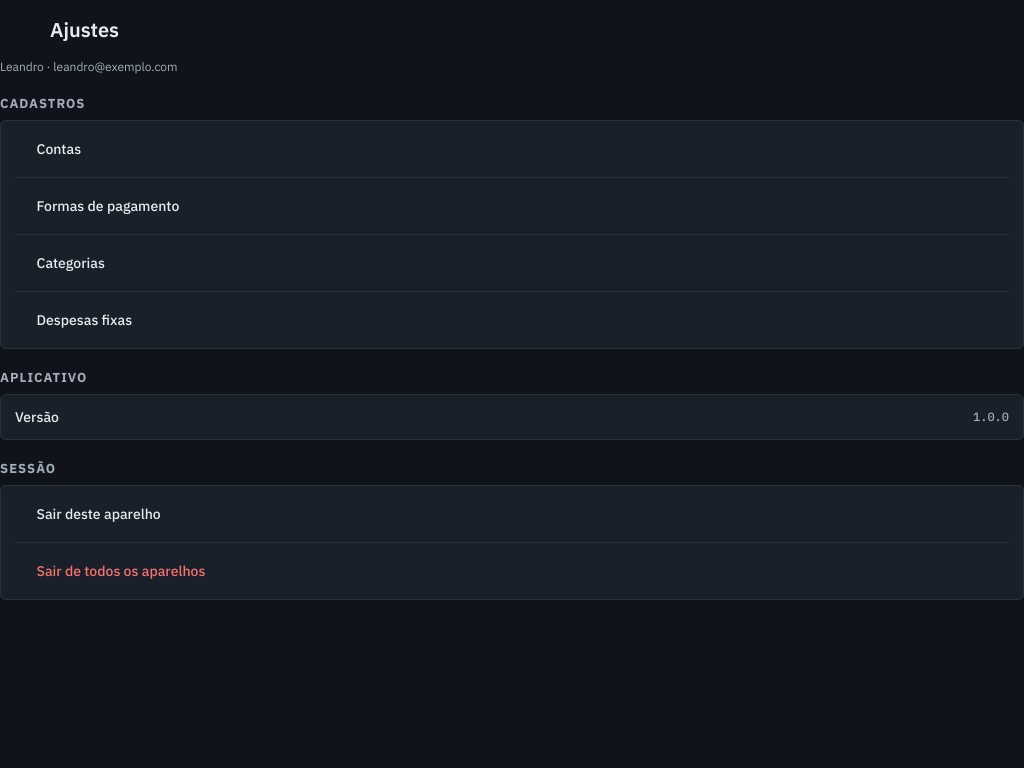
T14 Ajustes › "Sair de todos os aparelhos" abre o alertdialog com título e texto exatos
Click the button "Sair de todos os aparelhos": (121, 571) [15,549,1009,593]
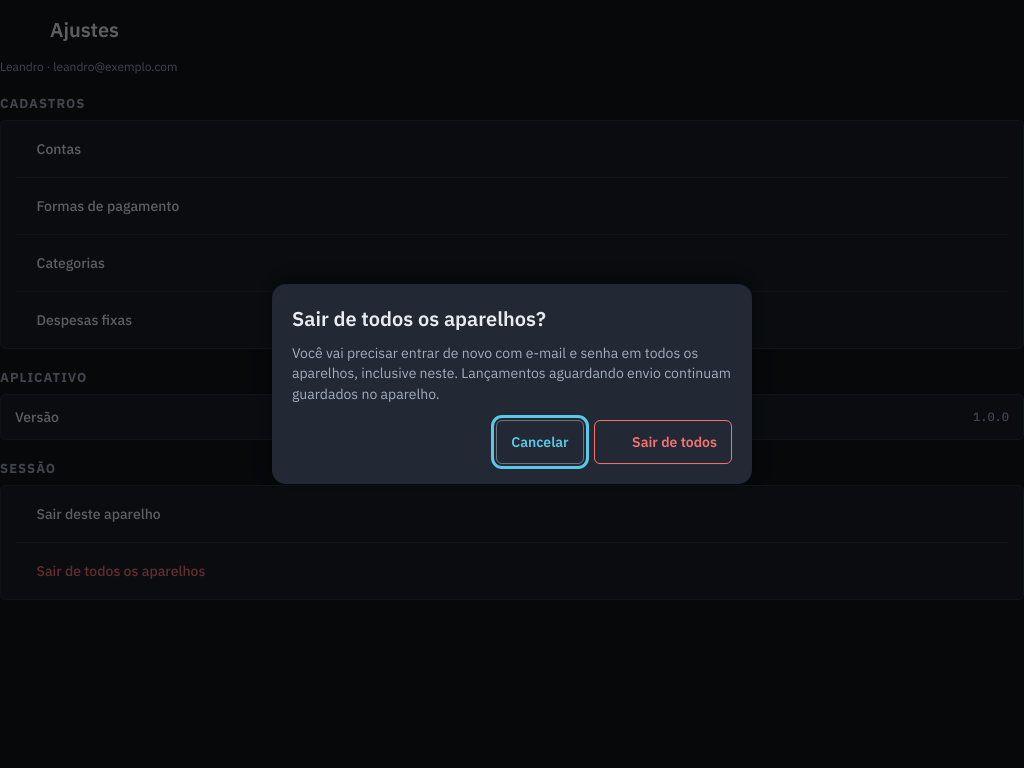
Expected: the button "Cancelar" is shown, [496,420,584,464]
Expected: the button "Sair de todos" is shown, [594,420,732,464]
